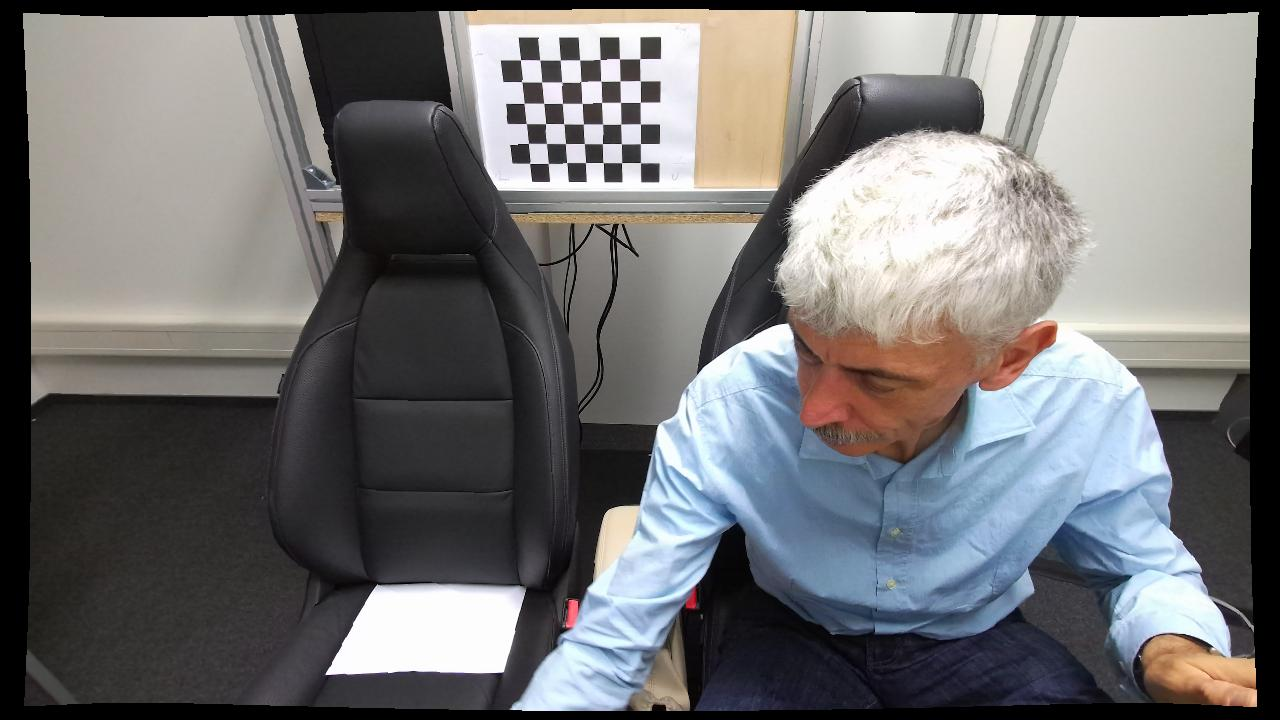Distracted: (505, 131, 1166, 705)
